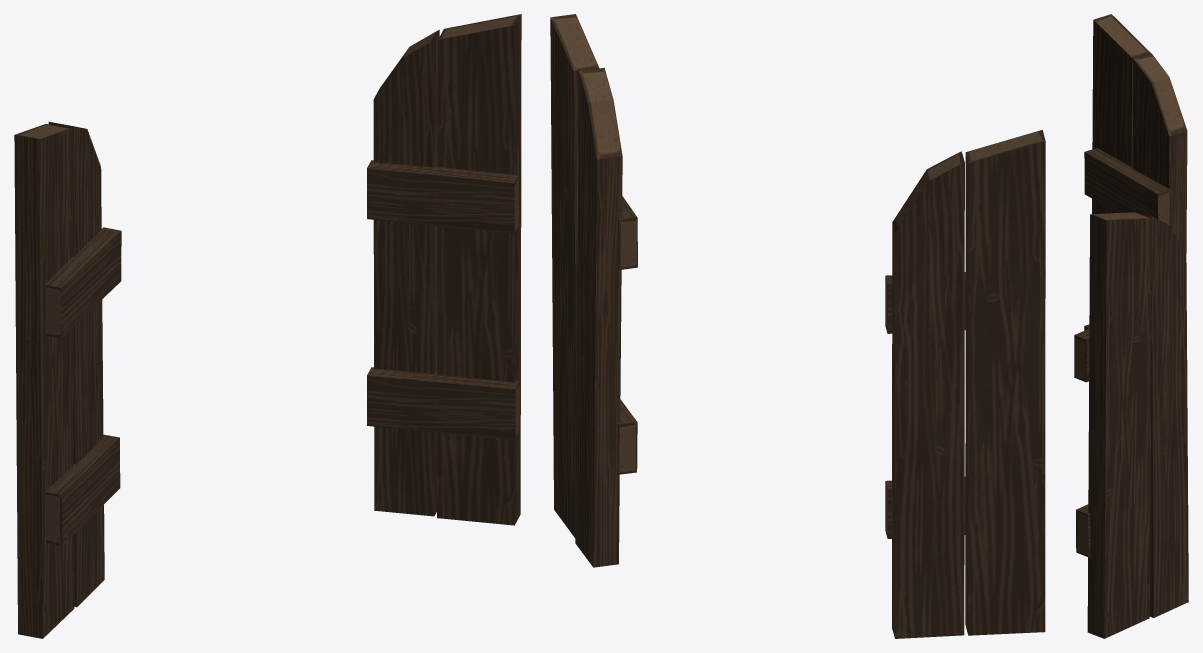
The model's file is WindowShutters_Thin_Round_Open.gltf.
3 renders of one model, left to right at view 1: azimuth 30°, elevation 25°; view 2: azimuth 150°, elevation 25°; view 3: azimuth 270°, elevation 25°, orthographic. The views are drawn at different scales.
Parts seen in each view (by area): view 1: WindowShutters_Thin_Round_Open; view 2: WindowShutters_Thin_Round_Open; view 3: WindowShutters_Thin_Round_Open.
Part boxes in pixels (bbox=[...]): WindowShutters_Thin_Round_Open: bbox=[14, 14, 521, 638]; WindowShutters_Thin_Round_Open: bbox=[550, 14, 1045, 638]; WindowShutters_Thin_Round_Open: bbox=[1074, 14, 1188, 638].
Bounding box in the file's own units: 1.61 × 1.52 × 0.3765.
1 material, 1 textured.
